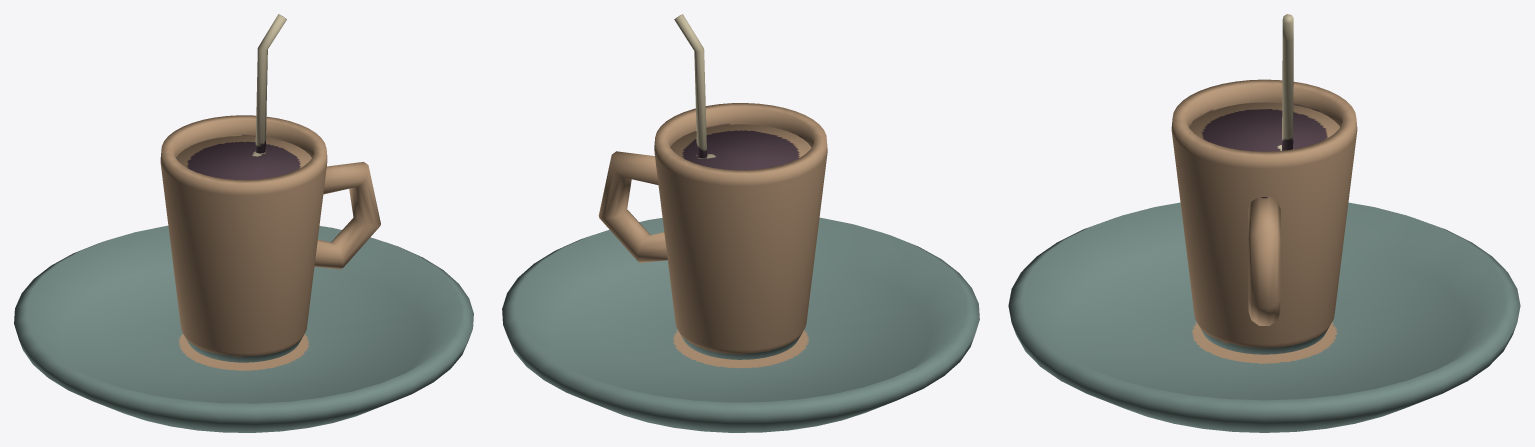
Rendered from prp_market_drink_v01.glb.
3 views of the same model, side by side, from view 1: azimuth 30°, elevation 25°; view 2: azimuth 150°, elevation 25°; view 3: azimuth 270°, elevation 25° (orthographic). The views are drawn at different scales.
Visible parts, largest first — view 1: lod0__prp_market_drink_v01; view 2: lod0__prp_market_drink_v01; view 3: lod0__prp_market_drink_v01.
Boxes of the visible parts, bbox=[...] form: lod0__prp_market_drink_v01: bbox=[14, 14, 473, 432]; lod0__prp_market_drink_v01: bbox=[502, 14, 979, 432]; lod0__prp_market_drink_v01: bbox=[1008, 14, 1520, 432].
Size of the model in its own units: 0.54 by 0.4286 by 0.54.
1 material, 1 textured.
